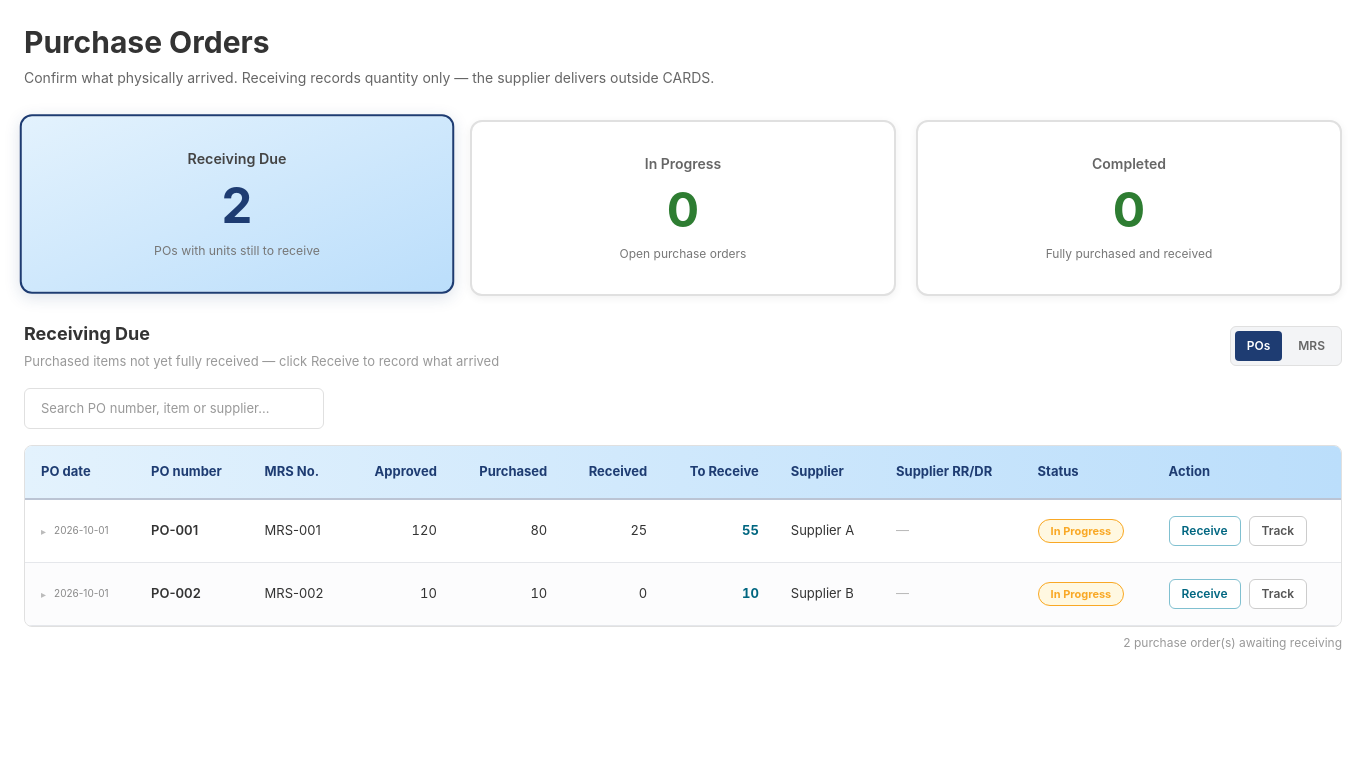
Test: Receiving Due is one row per purchase order › collapses on a second click
This screenshot has width=1366, height=768.
Expected: the text "PO-001" is shown, x1=135 y1=498 x2=249 y2=562
Click the row named "Expand to see its items" at (683, 530), box x1=25 y1=498 x2=1341 y2=562
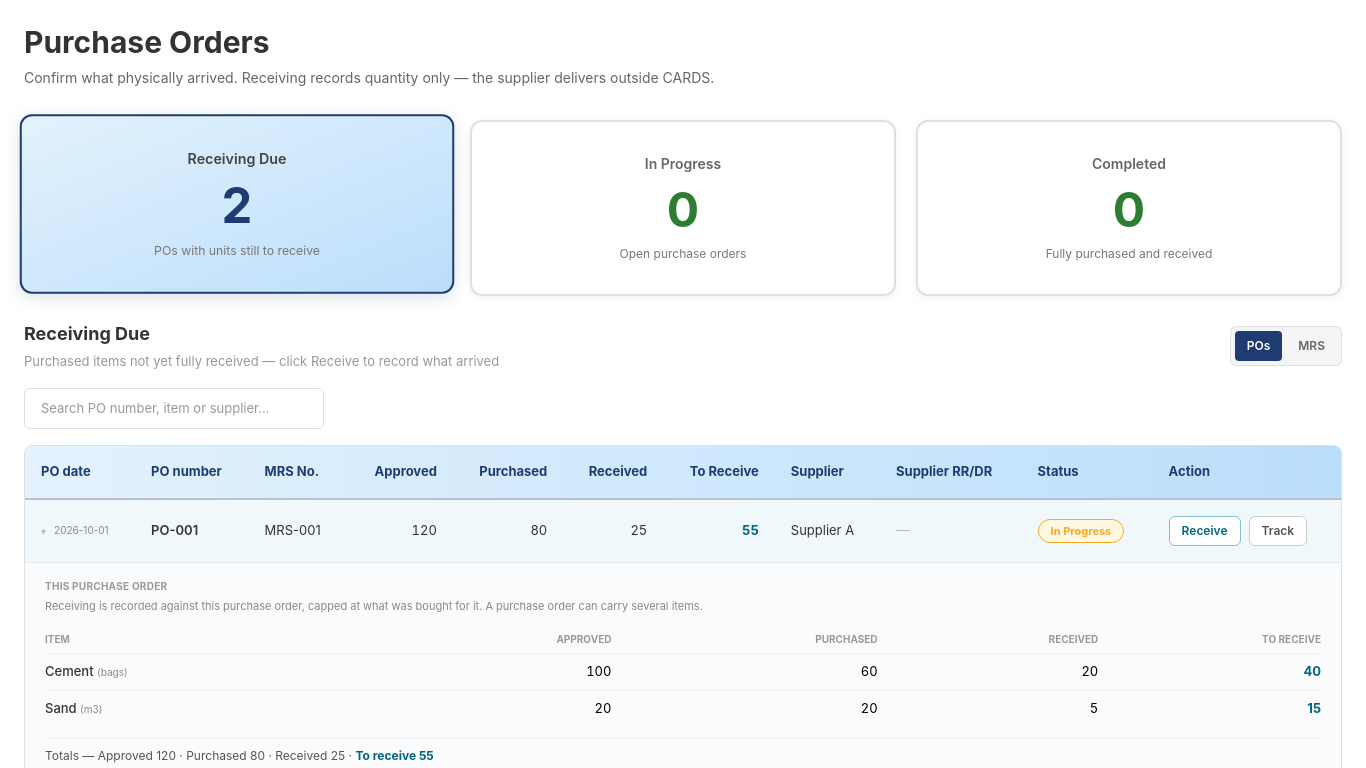
Expected: the heading "THIS PURCHASE ORDER" is shown, x1=45 y1=580 x2=167 y2=592
Click the row named "Collapse purchase order" at (683, 530), box x1=25 y1=498 x2=1341 y2=562
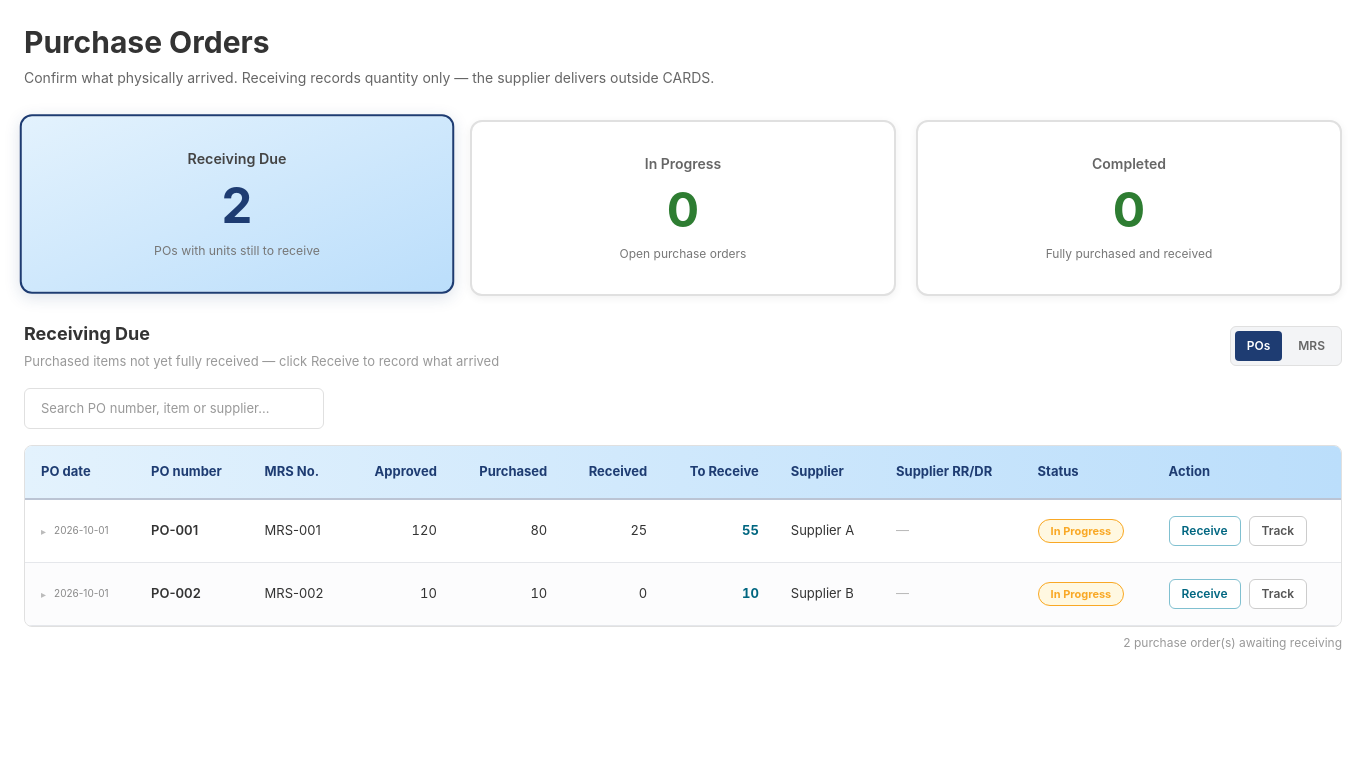
Expected: the heading "THIS PURCHASE ORDER" is gone
